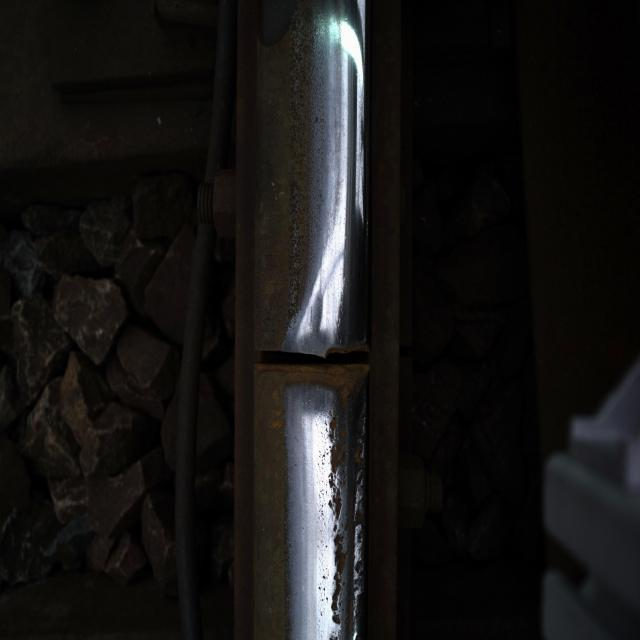spalling: (250, 288, 379, 422)
